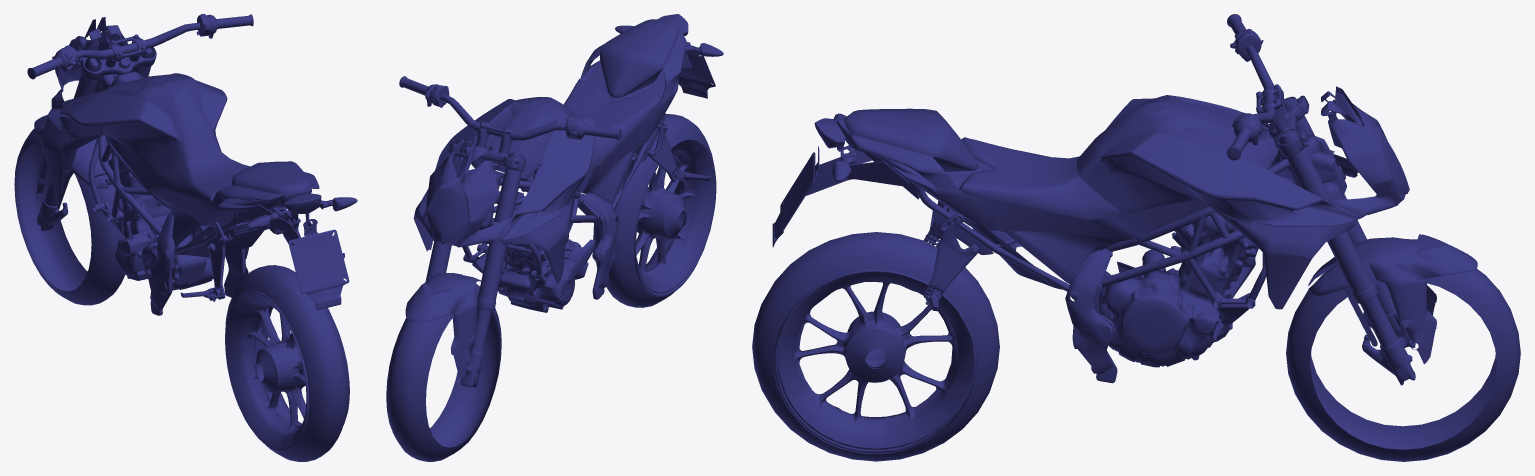
Rendered from MotoSWM_Export1.fbx.
3 views of the same model, side by side, from view 1: azimuth 30°, elevation 25°; view 2: azimuth 150°, elevation 25°; view 3: azimuth 270°, elevation 25° (orthographic). The views are drawn at different scales.
Visible parts, largest first — view 1: Carena_low, Ruote_copertoni_low, Ruota_cerchione_e_raggi1:Mesh, Struttura_pezzo_1_low, Motore_parte_1_low, Struttura_Tubi_low, Ammortizzatore_parte_2_low, Struttura_pezzo_0_low, Ammortizzatore_parte_1_low, Struttura_pezzo_2_low, Struttura_Pezzo_3_low, Comando_sinistro_low (+2 smaller); view 2: Carena_low, Ruote_copertoni_low, Ruota_cerchione_e_raggi1:Mesh, Ammortizzatore_parte_2_low, Motore_parte_1_low, Struttura_pezzo_1_low, Struttura_Tubi_low, Struttura_pezzo_0_low, Ammortizzatore_parte_1_low, Comando_sinistro_low, Struttura_Pezzo_3_low, Comando_destro_low (+2 smaller); view 3: Carena_low, Ruote_copertoni_low, Ruota_cerchione_e_raggi1:Mesh, Motore_parte_1_low, Ammortizzatore_parte_2_low, Struttura_Tubi_low, Struttura_pezzo_1_low, Struttura_pezzo_0_low, Struttura_pezzo_2_low, Ammortizzatore_parte_1_low, Comando_destro_low, Struttura_Pezzo_3_low (+1 smaller).
Boxes of the visible parts, bbox=[...] form: Carena_low: bbox=[34, 17, 319, 310]; Ruote_copertoni_low: bbox=[14, 128, 348, 461]; Ruota_cerchione_e_raggi1:Mesh: bbox=[225, 290, 349, 451]; Struttura_pezzo_1_low: bbox=[149, 191, 349, 310]; Motore_parte_1_low: bbox=[105, 158, 213, 290]; Struttura_Tubi_low: bbox=[88, 87, 311, 254]; Ammortizzatore_parte_2_low: bbox=[36, 22, 200, 231]; Struttura_pezzo_0_low: bbox=[96, 74, 245, 315]; Ammortizzatore_parte_1_low: bbox=[77, 34, 156, 80]; Struttura_pezzo_2_low: bbox=[205, 205, 317, 300]; Struttura_Pezzo_3_low: bbox=[180, 197, 357, 298]; Comando_sinistro_low: bbox=[27, 45, 78, 79]; Carena_low: bbox=[405, 18, 686, 377]; Ruote_copertoni_low: bbox=[386, 114, 714, 461]; Ruota_cerchione_e_raggi1:Mesh: bbox=[593, 138, 716, 296]; Ammortizzatore_parte_2_low: bbox=[425, 94, 565, 387]; Motore_parte_1_low: bbox=[498, 192, 580, 312]; Struttura_pezzo_1_low: bbox=[513, 14, 715, 216]; Struttura_Tubi_low: bbox=[462, 81, 665, 280]; Struttura_pezzo_0_low: bbox=[472, 172, 613, 299]; Ammortizzatore_parte_1_low: bbox=[448, 121, 525, 230]; Comando_sinistro_low: bbox=[565, 116, 621, 140]; Struttura_Pezzo_3_low: bbox=[615, 25, 723, 180]; Comando_destro_low: bbox=[399, 76, 449, 107]; Carena_low: bbox=[837, 86, 1477, 373]; Ruote_copertoni_low: bbox=[752, 232, 1520, 461]; Ruota_cerchione_e_raggi1:Mesh: bbox=[773, 269, 976, 453]; Motore_parte_1_low: bbox=[1099, 213, 1257, 367]; Ammortizzatore_parte_2_low: bbox=[1246, 45, 1415, 385]; Struttura_Tubi_low: bbox=[853, 141, 1294, 308]; Struttura_pezzo_1_low: bbox=[772, 118, 1140, 304]; Struttura_pezzo_0_low: bbox=[1071, 134, 1346, 383]; Struttura_pezzo_2_low: bbox=[806, 138, 993, 305]; Ammortizzatore_parte_1_low: bbox=[1256, 84, 1345, 199]; Comando_destro_low: bbox=[1226, 113, 1261, 160]; Struttura_Pezzo_3_low: bbox=[832, 113, 978, 311].
Bounding box in the file's own units: 818 × 1103 × 1983.
